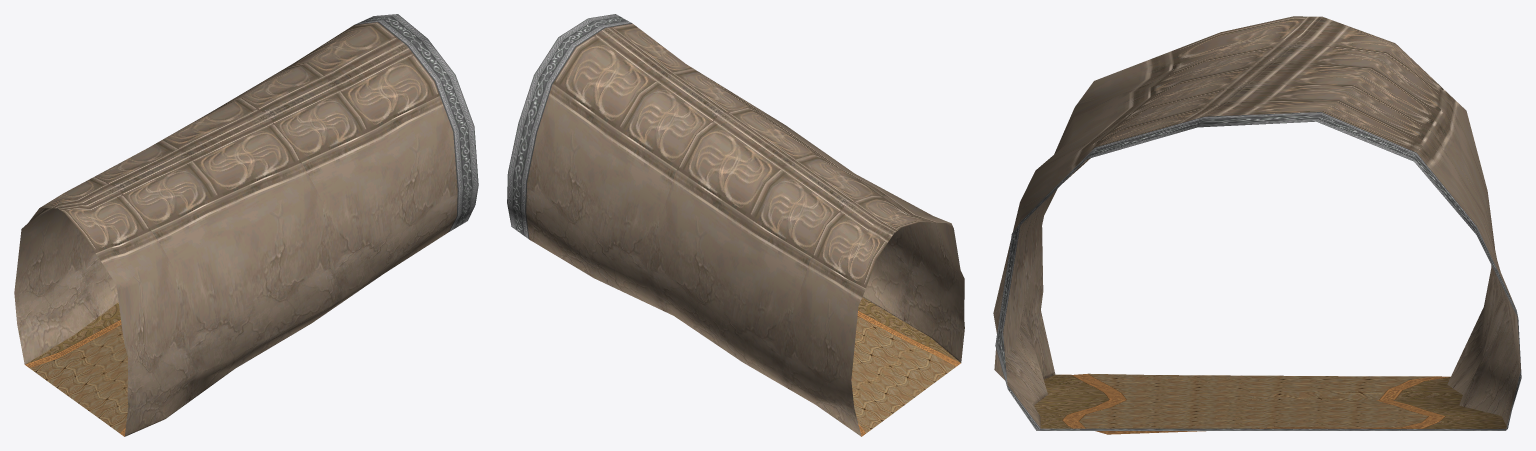
The model's file is EKH_JAIL_PS_JA_BARREL_HALL__GX.obj.
3 renders of one model, left to right at view 1: azimuth 30°, elevation 25°; view 2: azimuth 150°, elevation 25°; view 3: azimuth 270°, elevation 25°, orthographic. The views are drawn at different scales.
Parts seen in each view (by area): view 1: Barrel_Hall__GX; view 2: Barrel_Hall__GX; view 3: Barrel_Hall__GX.
Part boxes in pixels (left/top/right/bottom): Barrel_Hall__GX: left=14, top=14, right=478, bottom=436; Barrel_Hall__GX: left=507, top=14, right=964, bottom=436; Barrel_Hall__GX: left=993, top=16, right=1521, bottom=434.
Bounding box in the file's own units: 566 × 468 × 384.
